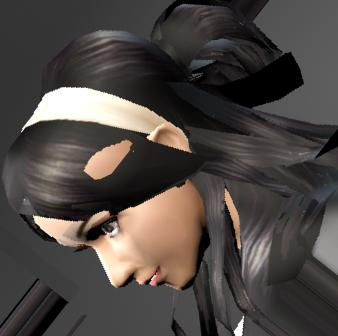clip: (79, 148, 115, 184)
